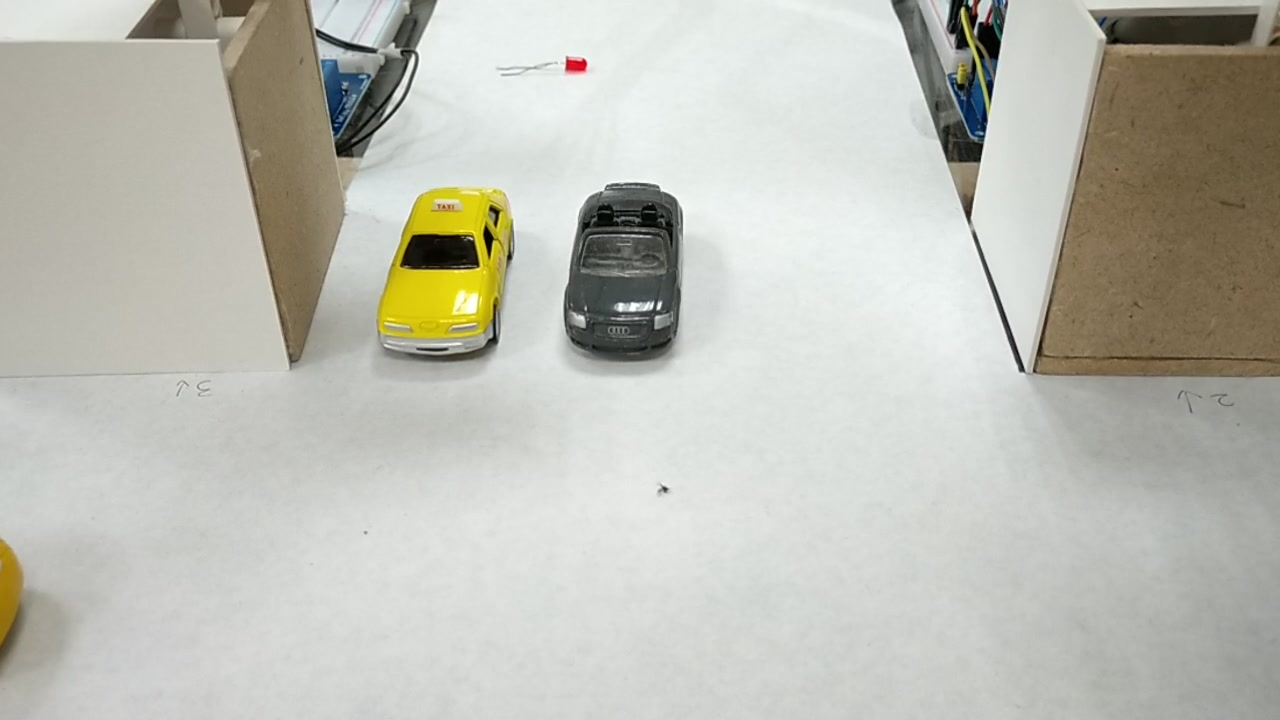car: (375, 191, 515, 364), (568, 182, 675, 360)
